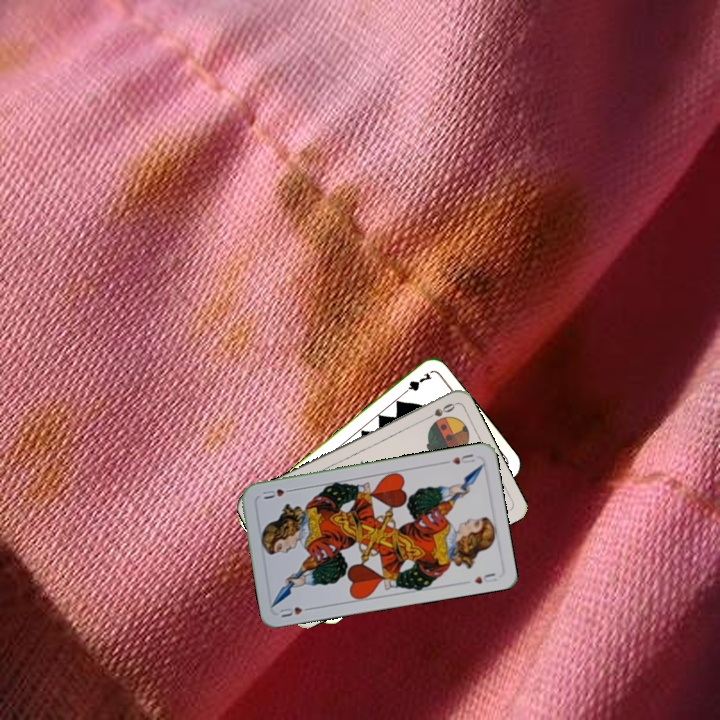G7: (397, 368, 434, 399)
HU: (276, 603, 315, 620), (440, 450, 477, 467)
SO: (419, 399, 458, 424)
